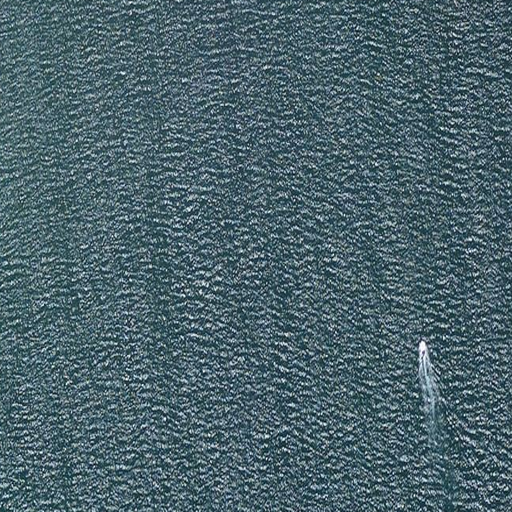ship: (416, 338, 427, 352)
